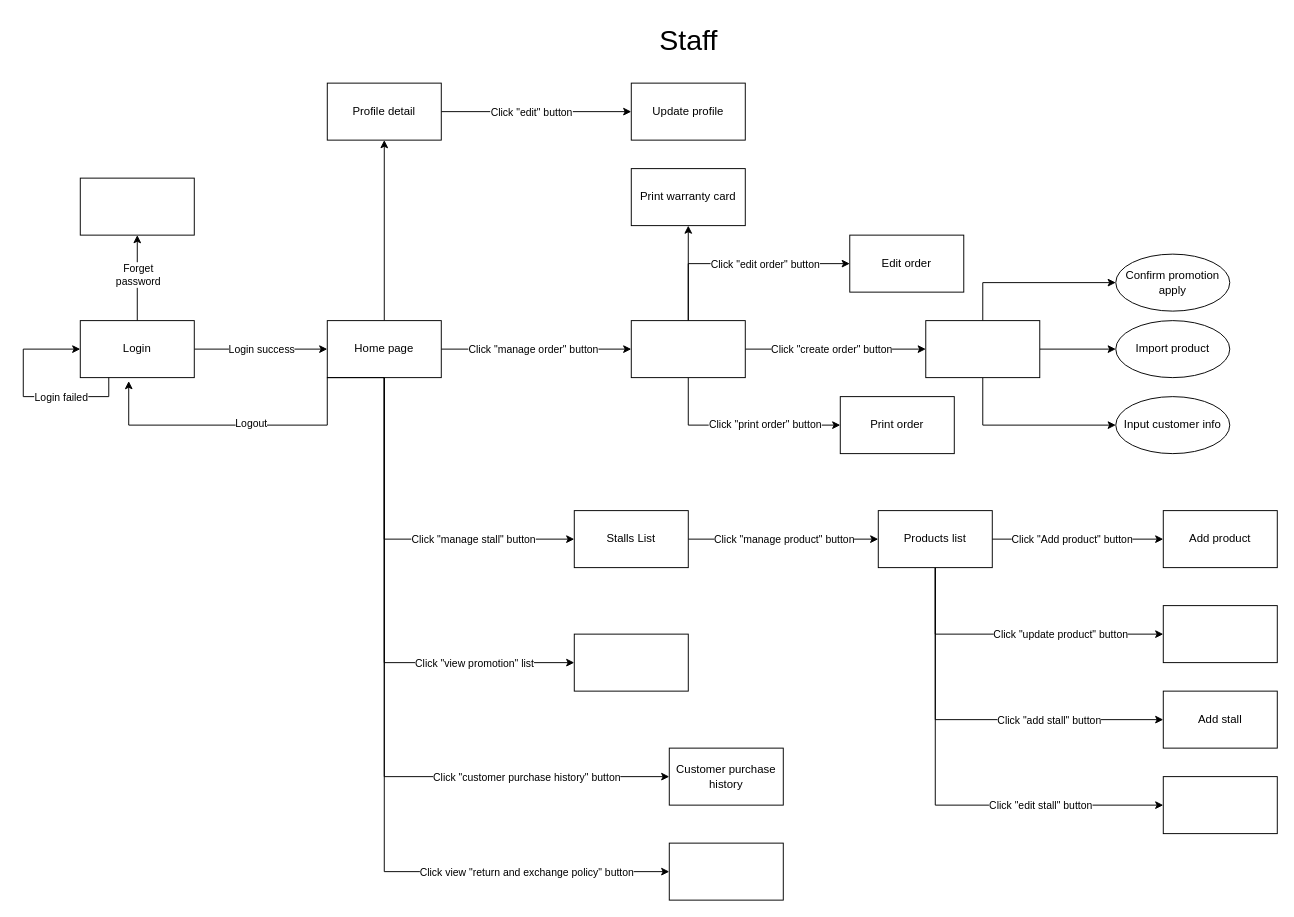
Some shapes in this 1294 by 917 pixel diagram are drawn without their labels. The box of each missing label's shape, as (x1, y1, x2, y2) in pixels:
Create order: (925, 320, 1040, 378)
Edit stall: (1162, 776, 1277, 834)
Orders list: (630, 320, 745, 378)
Promotions list: (573, 633, 688, 691)
Reset password: (79, 177, 194, 235)
Return and exchange policy: (668, 842, 783, 900)
Update product: (1162, 605, 1277, 663)
